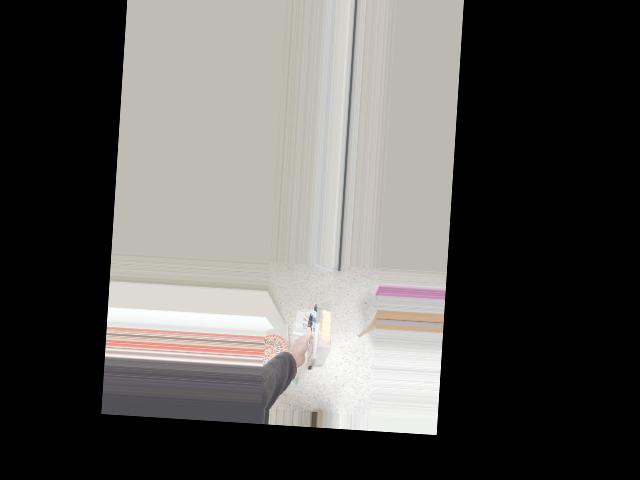cheese: (268, 302, 338, 374)
